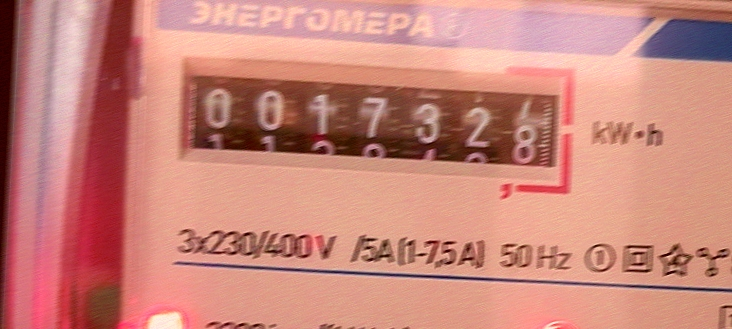0: (201, 84, 235, 130), (255, 84, 286, 131)
1: (309, 88, 333, 136)
2: (461, 102, 493, 149)
3: (412, 99, 442, 144)
7: (359, 92, 388, 140)
8: (509, 121, 537, 164)
screen: (167, 48, 583, 199)
